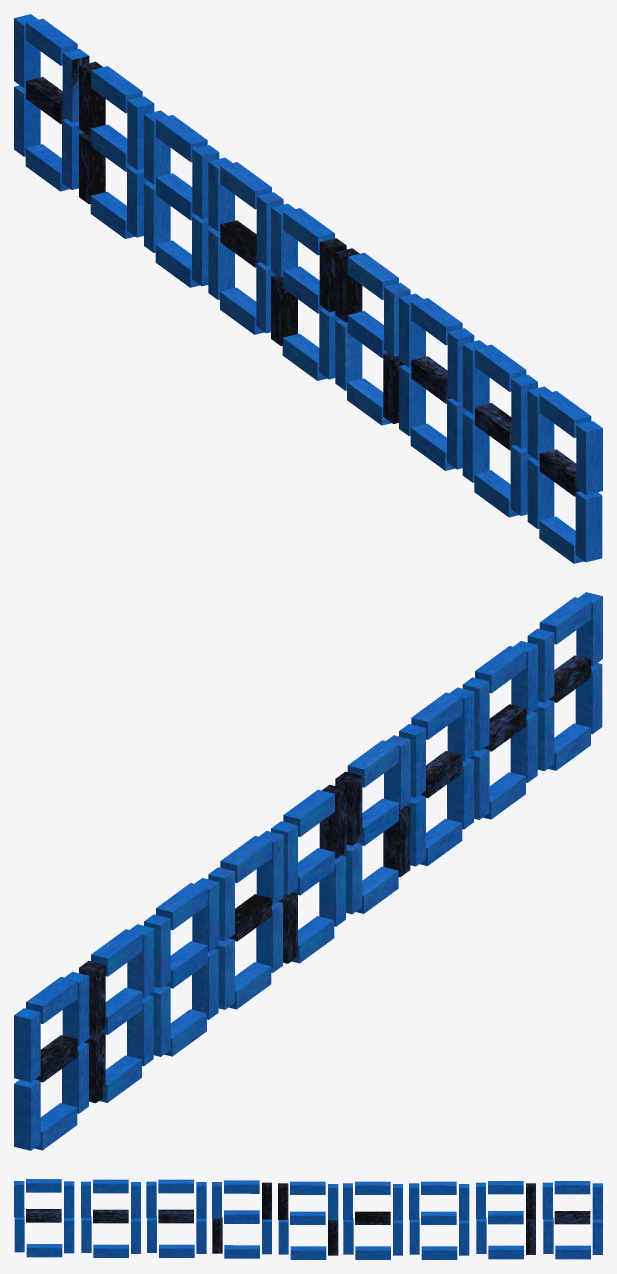
File: display2.obj
The picture shows the model from 3 angles, top to bottom: view 1: azimuth 30°, elevation 25°; view 2: azimuth 150°, elevation 25°; view 3: azimuth 270°, elevation 25°; orthographic projection. The views are drawn at different scales.
Visible parts, largest first — view 1: Display; view 2: Display; view 3: Display.
Part boxes in pixels (box(x1,y1,x2,y2)): Display: box(14, 14, 602, 563); Display: box(14, 592, 602, 1150); Display: box(14, 1179, 602, 1259).
Bounding box in the file's own units: 0.1524 × 1.28 × 8.93.
1 material, 1 textured.
